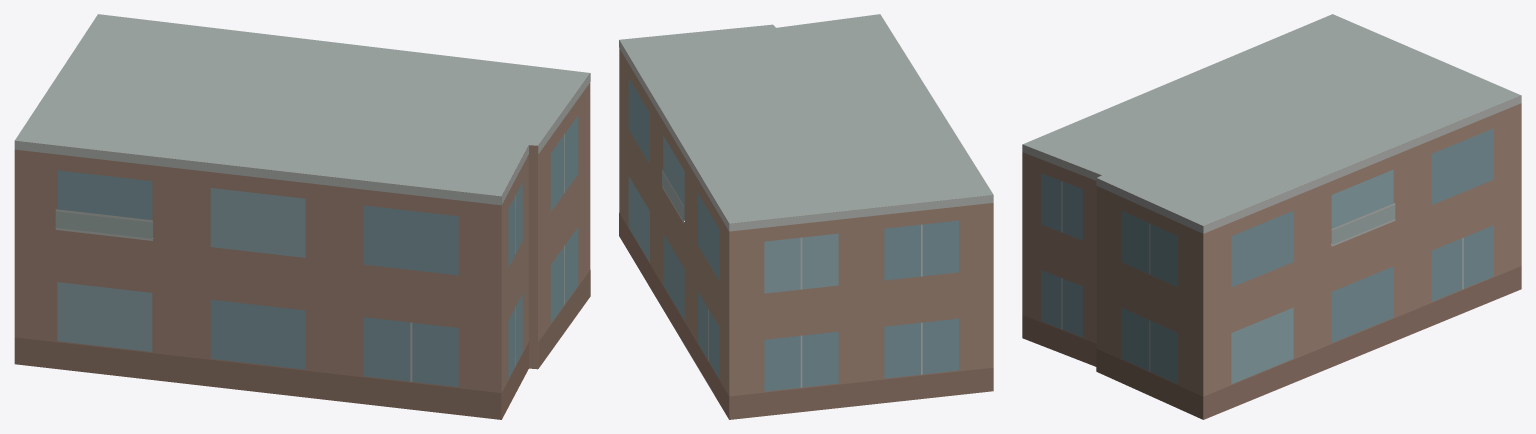
File: survey-upis-32717475.glb
3 views of the same model, side by side, from view 1: azimuth 30°, elevation 25°; view 2: azimuth 150°, elevation 25°; view 3: azimuth 270°, elevation 25° (orthographic). The views are drawn at different scales.
Visible parts, largest first — view 1: survey-upis-32717475.tmp; view 2: survey-upis-32717475.tmp; view 3: survey-upis-32717475.tmp.
Boxes of the visible parts, left/top/right/bottom form: survey-upis-32717475.tmp: left=14, top=14, right=590, bottom=419; survey-upis-32717475.tmp: left=619, top=14, right=993, bottom=419; survey-upis-32717475.tmp: left=1022, top=14, right=1521, bottom=419.
Bounding box in the file's own units: 14.33 × 6.1 × 14.25.
